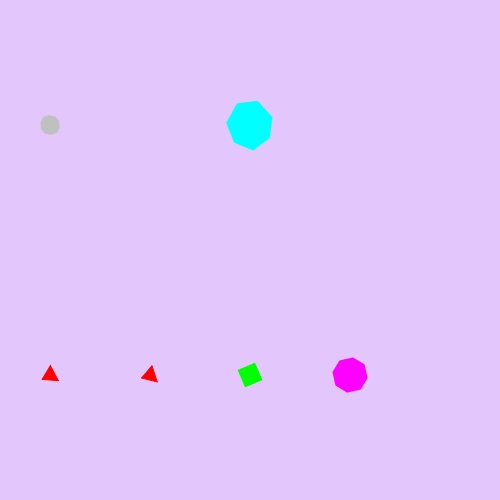decagon: (35, 111, 65, 139)
heptagon: (222, 99, 278, 152)
octagon: (328, 353, 372, 397)
quadrilateral: (233, 358, 267, 392)
triangle: (38, 362, 63, 388), (138, 362, 163, 388)
